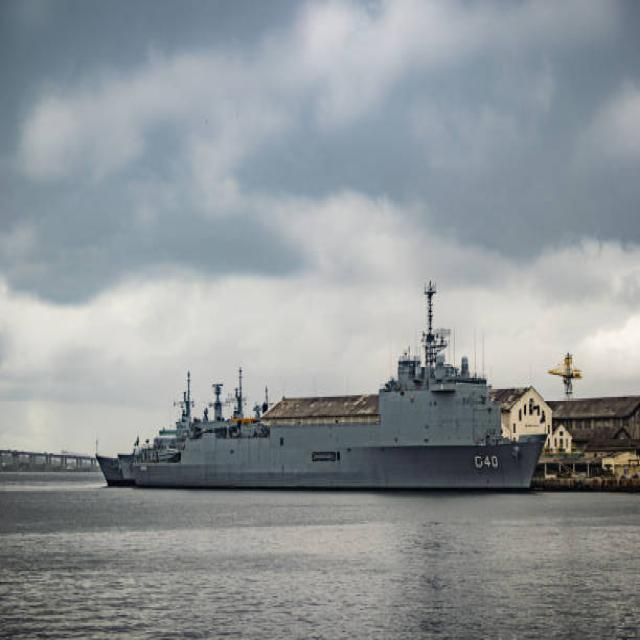Military: (94, 284, 553, 493)
